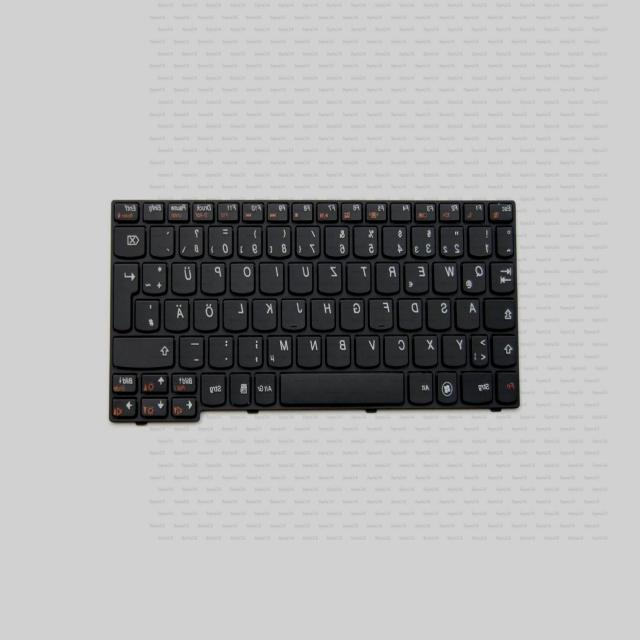0: (210, 223, 236, 257)
1: (470, 223, 495, 256)
2: (441, 223, 466, 256)
3: (412, 224, 438, 256)
4: (384, 224, 409, 256)
5: (355, 223, 381, 256)
6: (326, 223, 352, 256)
7: (297, 223, 323, 257)
8: (268, 224, 294, 256)
9: (239, 223, 265, 257)
a: (458, 296, 482, 328)
accent: (151, 223, 177, 257)
ae: (166, 296, 192, 330)
alt-left: (411, 369, 436, 403)
altgr-right: (256, 370, 278, 404)
b: (328, 332, 354, 366)
c: (385, 333, 411, 366)
caret: (498, 224, 516, 256)
comma: (240, 333, 266, 367)
d: (400, 295, 425, 329)
del: (115, 223, 149, 256)
e: (406, 259, 432, 292)
enter: (115, 258, 141, 330)
f: (370, 296, 395, 328)
g: (342, 296, 367, 328)
h: (313, 296, 338, 329)
hash: (137, 296, 162, 330)
i: (261, 259, 287, 293)
j: (283, 296, 309, 329)
k: (254, 296, 280, 329)
keyboard: (108, 194, 524, 422)
l: (225, 296, 250, 330)
less: (473, 331, 491, 365)
m: (269, 333, 295, 367)
minus: (181, 334, 207, 367)
n: (298, 332, 324, 366)
o: (232, 259, 258, 293)
oe: (196, 296, 222, 330)
p: (202, 259, 228, 293)
plus: (144, 259, 170, 293)
point: (210, 333, 236, 366)
q: (463, 259, 489, 293)
r: (377, 259, 403, 293)
s: (429, 296, 454, 328)
shift-left: (494, 333, 520, 365)
shift-lock: (486, 296, 518, 329)
shift-right: (114, 333, 177, 367)
space: (280, 370, 406, 404)
ss: (181, 223, 207, 257)
strg-left: (462, 368, 496, 402)
strg-right: (202, 370, 229, 404)
t: (348, 259, 374, 293)
tab: (492, 259, 516, 292)
u: (290, 260, 316, 293)
ue: (173, 259, 199, 293)
v: (357, 332, 382, 366)
w: (435, 258, 460, 292)
x: (415, 332, 440, 366)
y: (444, 333, 469, 365)
z: (320, 259, 345, 292)
